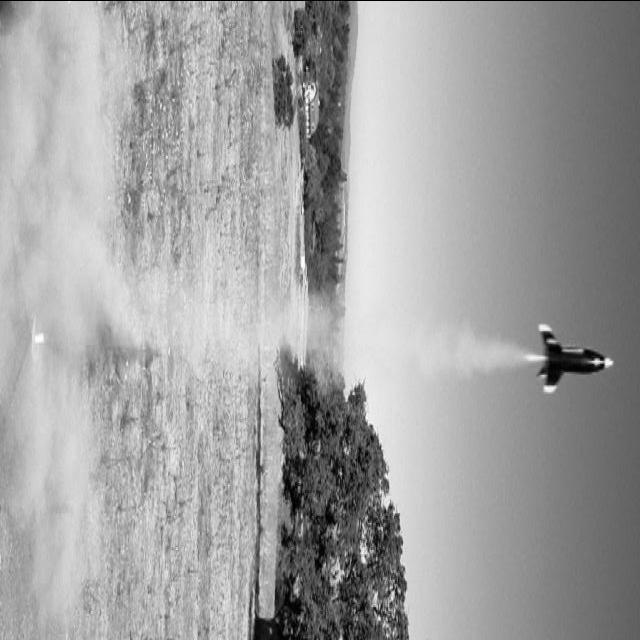Missile: (557, 344, 619, 376)
